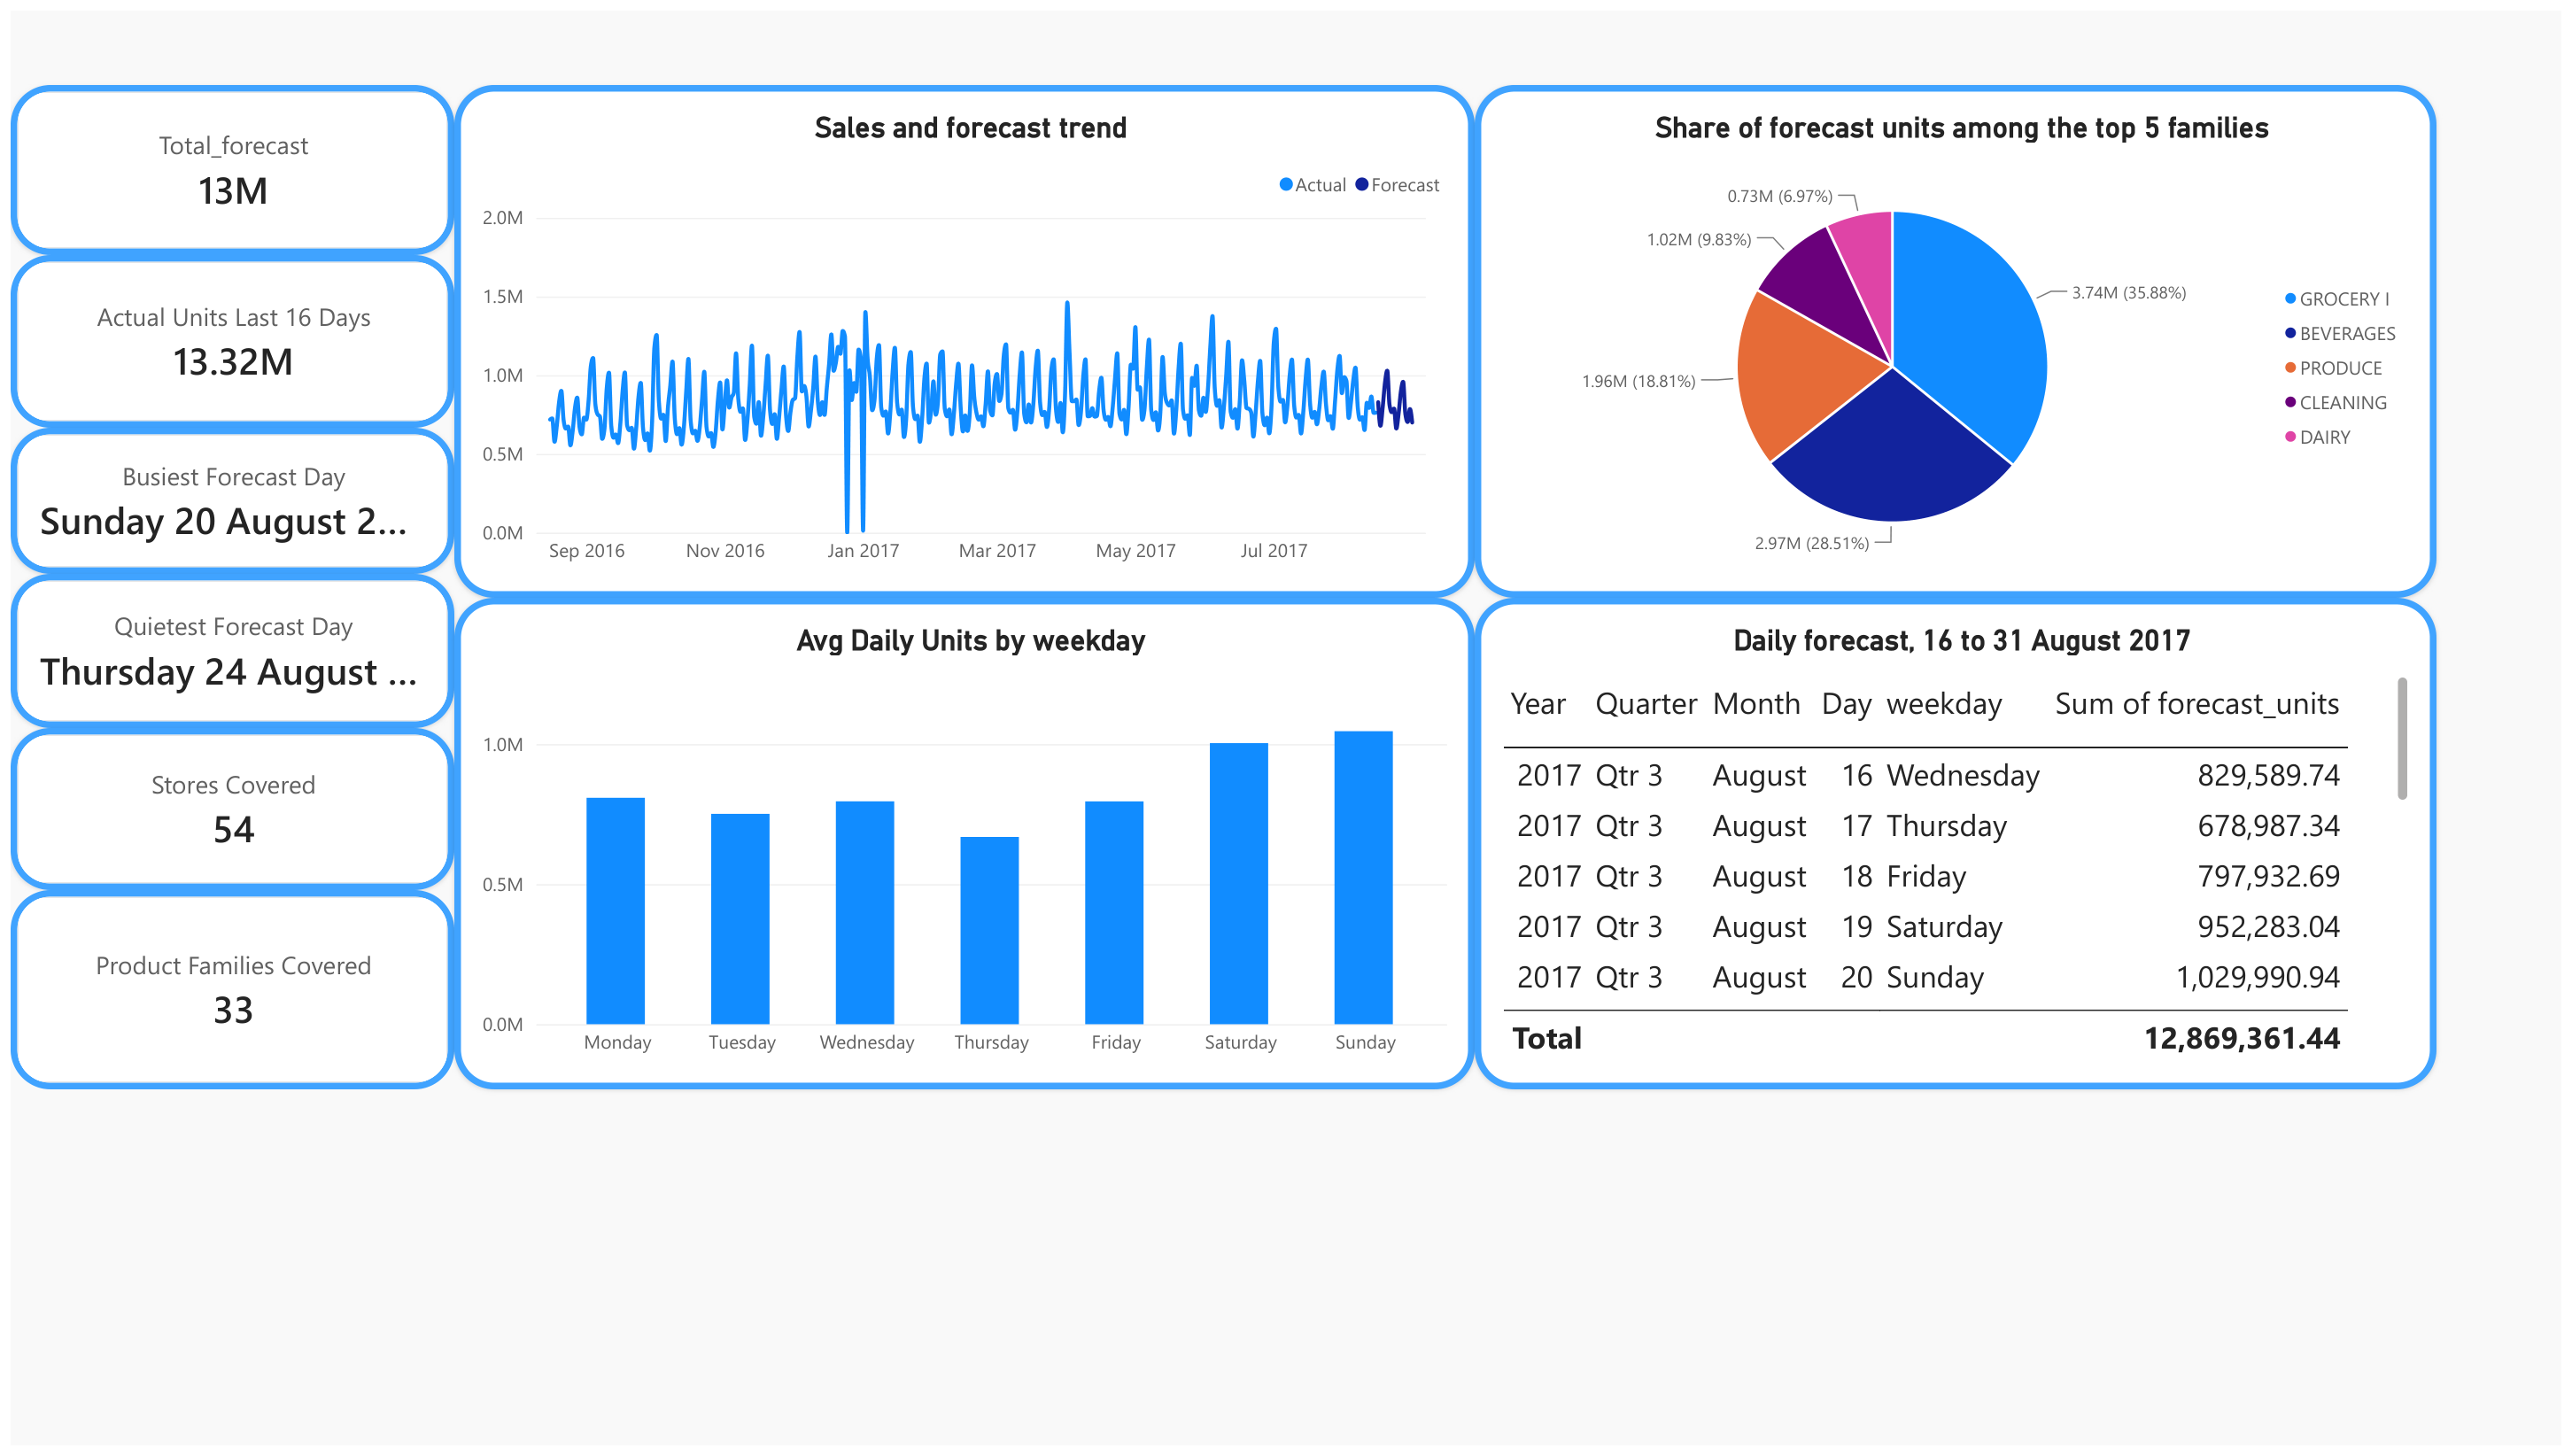

This screenshot's page, from the dashboard's own definition file:
{"tool":"powerbi","page":{"name":"Page 1","canvas":[1920,1080],"ordinal":0},"visuals":[{"type":"cardVisual","fields":{"Data":["Measures_Table.Measure"]},"box":[0,56,334,128],"z":0},{"type":"cardVisual","fields":{"Data":["Measures_Table.Actual Units Last 16 Days"]},"box":[0,184,334,130],"z":1},{"type":"cardVisual","fields":{"Data":["Measures_Table.Busiest Forecast Day"]},"box":[0,314,334,110],"z":2},{"type":"cardVisual","fields":{"Data":["Measures_Table.Quietest Forecast Day"]},"box":[0,424,334,116],"z":3},{"type":"cardVisual","fields":{"Data":["Measures_Table.Stores Covered"]},"box":[0,540,334,122],"z":4},{"type":"cardVisual","fields":{"Data":["Measures_Table.Families Covered"]},"box":[0,662,334,150],"z":5},{"type":"lineChart","title":"Sales and forecast trend","fields":{"Category":["powerbi_sales_forecast.date.Variation.Date Hierarchy.Year","powerbi_sales_forecast.date.Variation.Date Hierarchy.Quarter","powerbi_sales_forecast.date.Variation.Date Hierarchy.Month","powerbi_sales_forecast.date.Variation.Date Hierarchy.Day"],"Series":["powerbi_sales_forecast.record_type"],"Y":["Sum(powerbi_sales_forecast.units)"]},"box":[334,56,768,386],"z":6},{"type":"clusteredColumnChart","fields":{"Category":["powerbi_sales_forecast.weekday"],"Y":["Measures_Table.Avg Daily Units"]},"box":[334,442,768,370],"z":7},{"type":"pieChart","title":"Share of forecast units among the top 5 families","fields":{"Category":["powerbi_sales_forecast.family"],"Y":["Sum(powerbi_sales_forecast.forecast_units)"]},"box":[1102,56,724,386],"z":8},{"type":"tableEx","title":"Daily forecast, 16 to 31 August 2017","fields":{"Values":["powerbi_sales_forecast.date.Variation.Date Hierarchy.Year","powerbi_sales_forecast.date.Variation.Date Hierarchy.Quarter","powerbi_sales_forecast.date.Variation.Date Hierarchy.Month","powerbi_sales_forecast.date.Variation.Date Hierarchy.Day","powerbi_sales_forecast.weekday","Sum(powerbi_sales_forecast.forecast_units)"]},"box":[1102,442,724,370],"z":9}]}

Visuals, with their boxes in screenshot pixels (x1, y1, x2, y2), scaled from the page's 1920x1080 canvas onto the 2572x1456 screenshot:
cardVisual - Measures_Table.Measure: region(0, 75, 447, 248)
cardVisual - Measures_Table.Actual Units Last 16 Days: region(0, 248, 447, 423)
cardVisual - Measures_Table.Busiest Forecast Day: region(0, 423, 447, 571)
cardVisual - Measures_Table.Quietest Forecast Day: region(0, 571, 447, 728)
cardVisual - Measures_Table.Stores Covered: region(0, 728, 447, 893)
cardVisual - Measures_Table.Families Covered: region(0, 893, 447, 1095)
"Sales and forecast trend" lineChart: region(447, 75, 1476, 596)
clusteredColumnChart - powerbi_sales_forecast.weekday x Measures_Table.Avg Daily Units: region(447, 596, 1476, 1095)
"Share of forecast units among the top 5 families" pieChart: region(1476, 75, 2446, 596)
"Daily forecast, 16 to 31 August 2017" tableEx: region(1476, 596, 2446, 1095)
